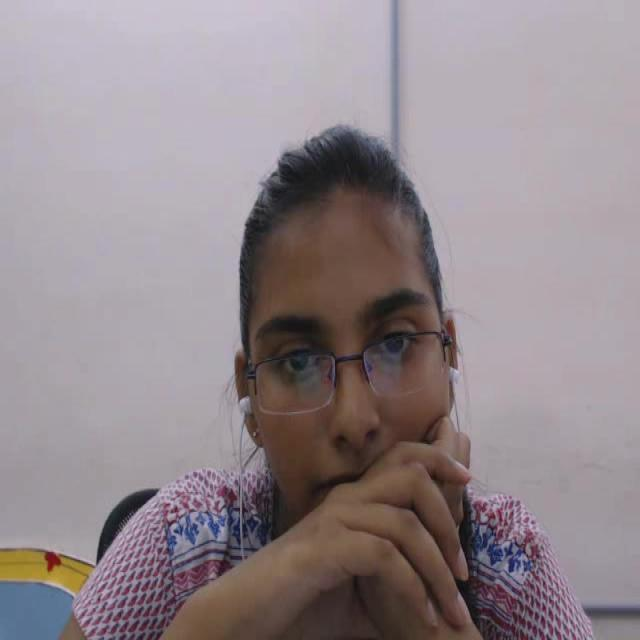Bored: (210, 104, 498, 584)
